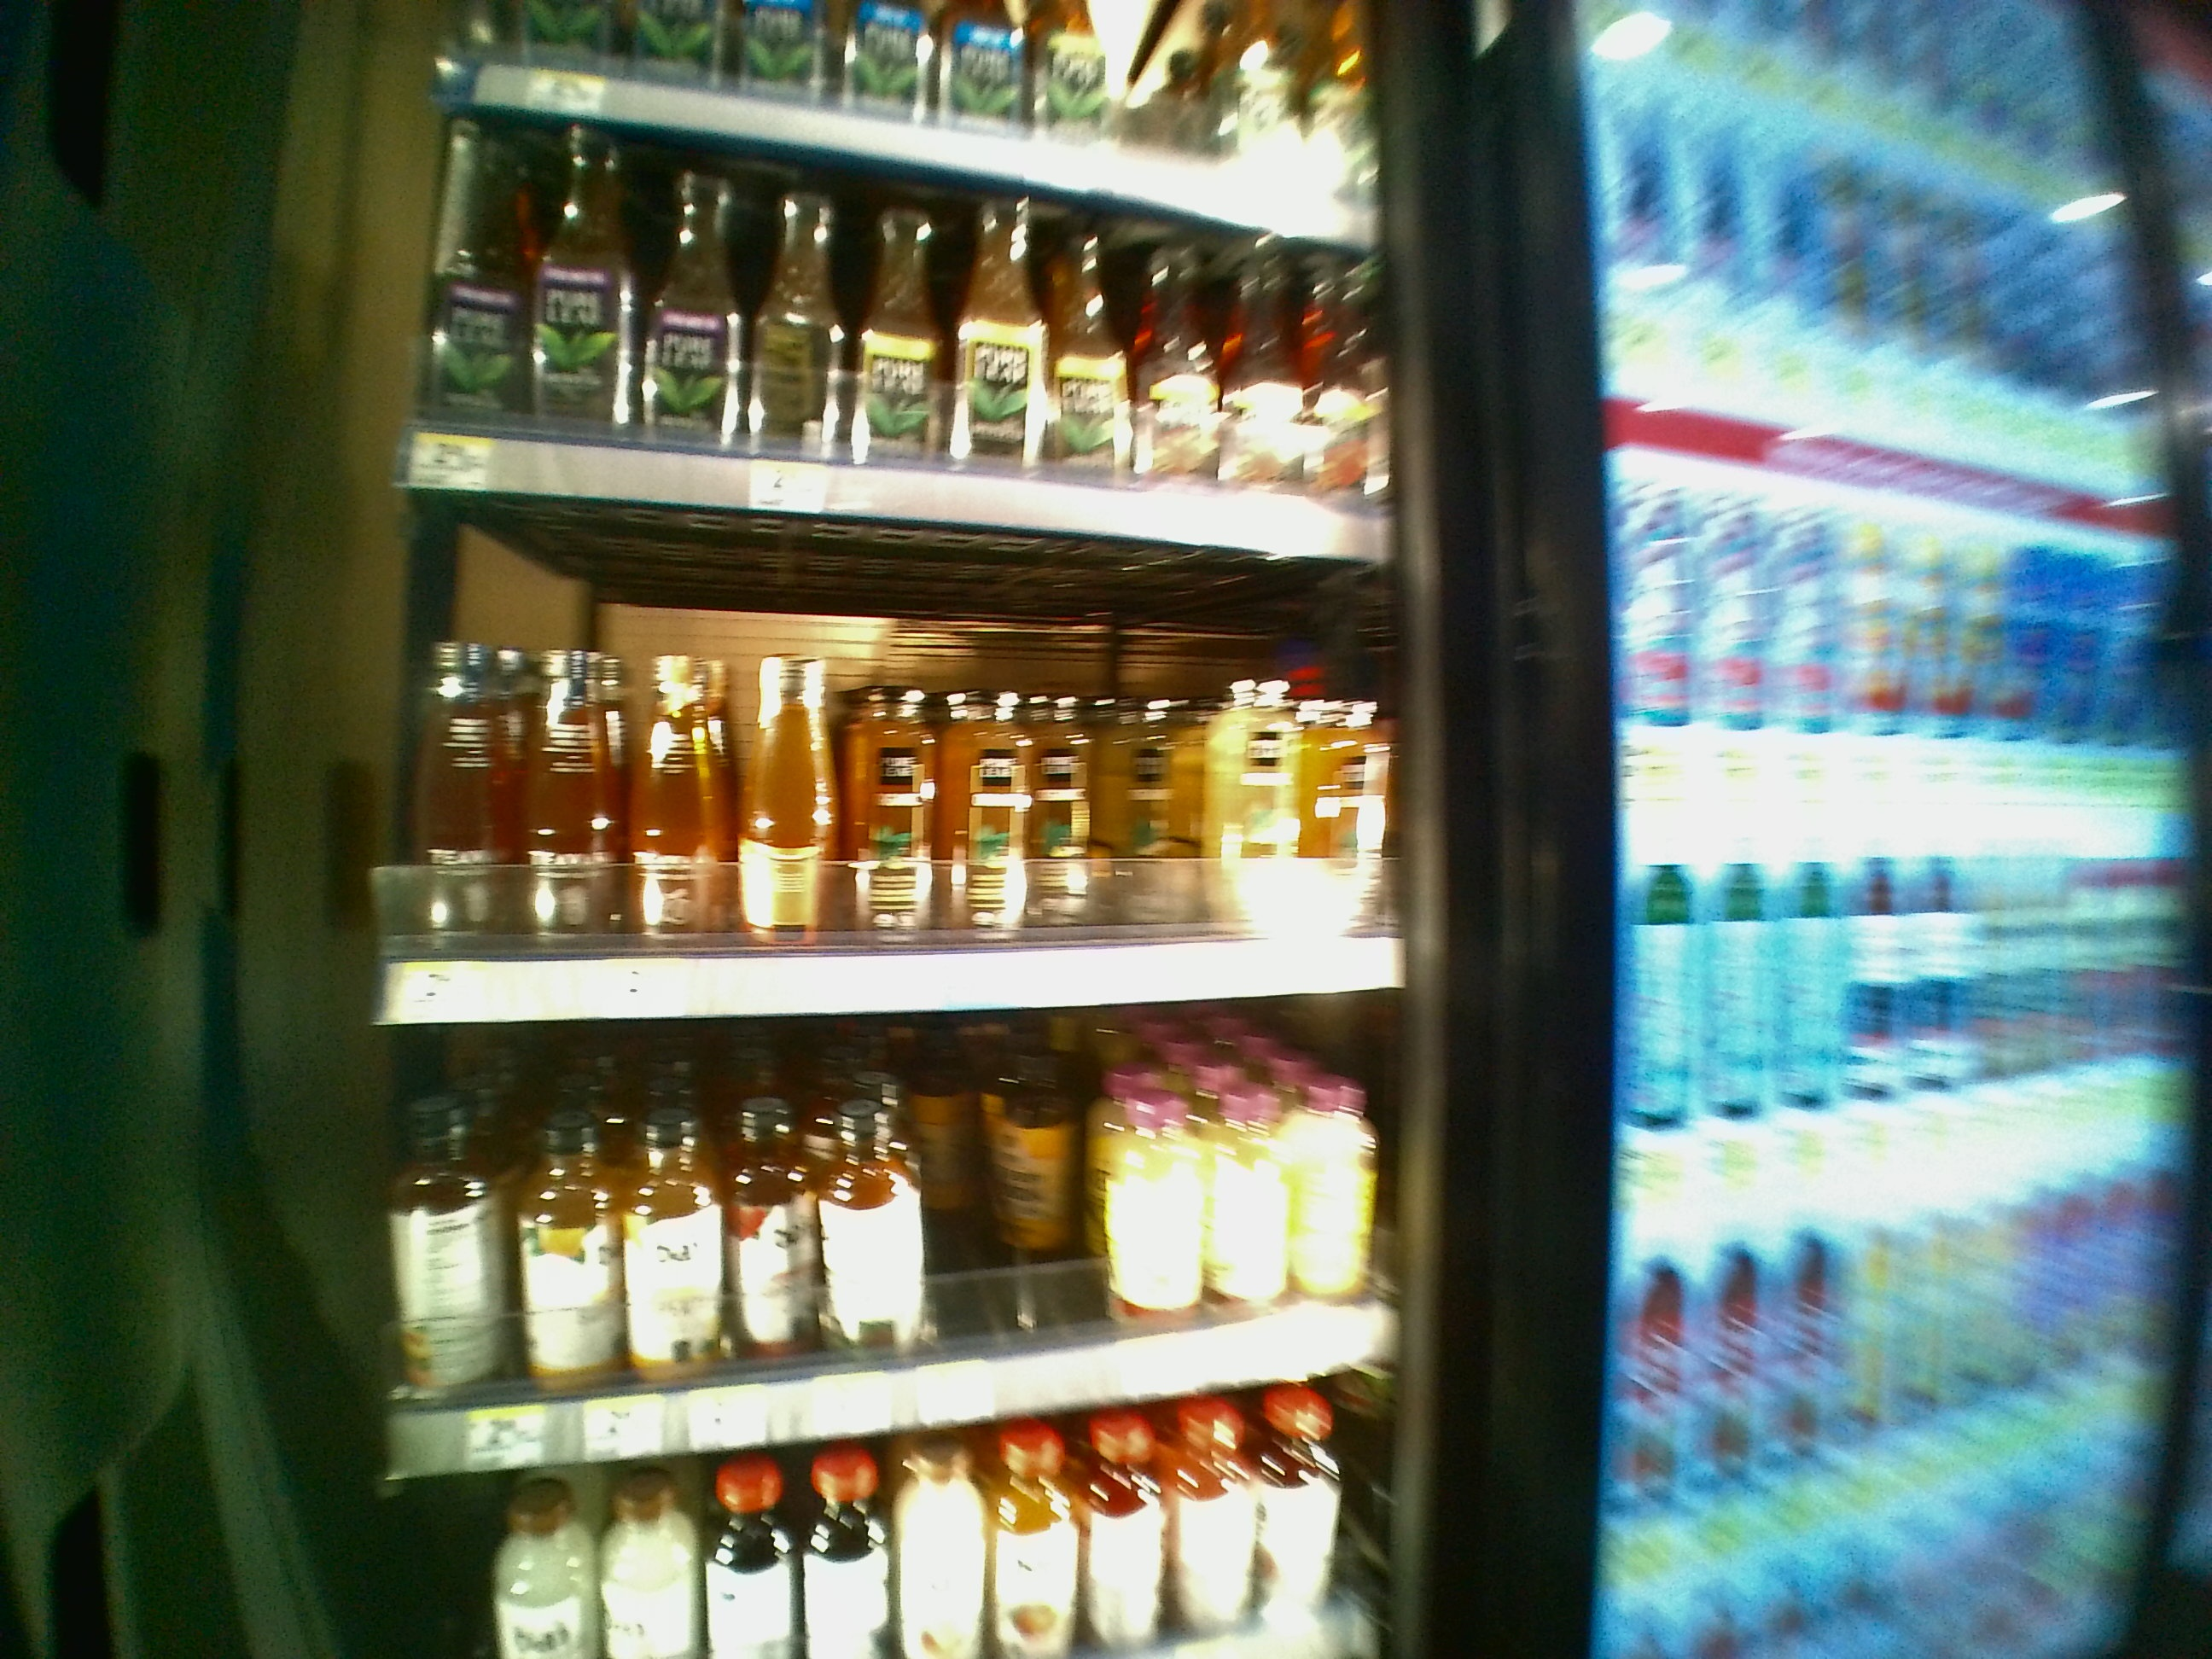shelf: (374, 528, 1406, 1028), (374, 1040, 1418, 1474), (383, 106, 1383, 498)
